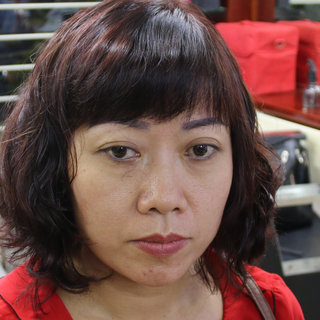eye: (94, 139, 143, 164), (178, 138, 223, 164)
